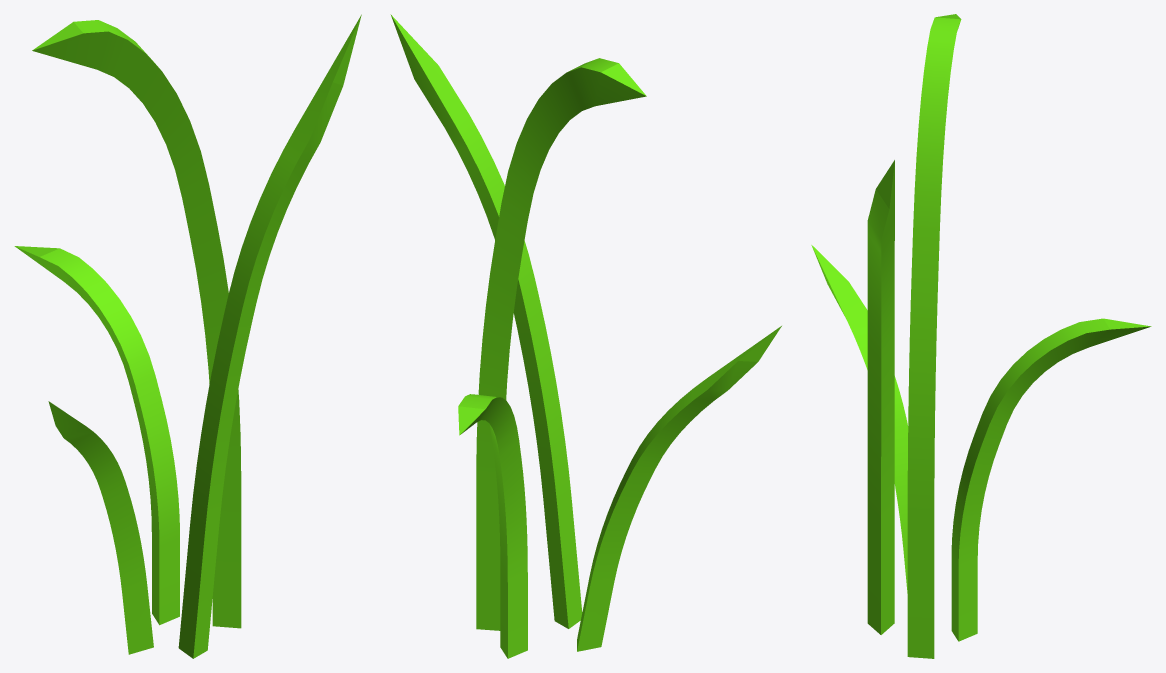
The model's file is grass1.FBX.
3 views of the same model, side by side, from view 1: azimuth 30°, elevation 25°; view 2: azimuth 150°, elevation 25°; view 3: azimuth 270°, elevation 25° (orthographic). The views are drawn at different scales.
Parts seen in each view (by area): view 1: Bundle 1; view 2: Bundle 1; view 3: Bundle 1.
Part boxes in pixels (x1=…): Bundle 1: x1=14, y1=14, x2=361, y2=658; Bundle 1: x1=390, y1=14, x2=781, y2=658; Bundle 1: x1=811, y1=14, x2=1151, y2=658.
Size of the model in its own units: 35.74 by 58.96 by 31.69.
